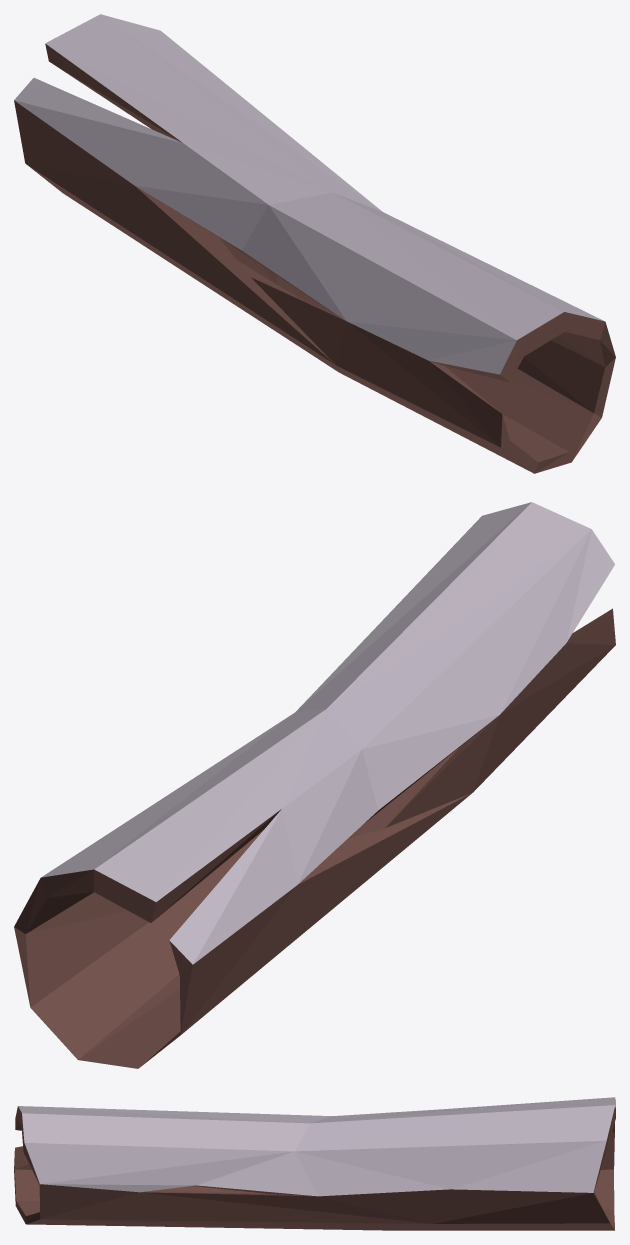
The model's file is WoodLog_Snow.lod1.glb.
The picture shows the model from 3 angles, top to bottom: view 1: azimuth 30°, elevation 25°; view 2: azimuth 150°, elevation 25°; view 3: azimuth 270°, elevation 25°; orthographic projection. The views are drawn at different scales.
Visible parts, largest first — view 1: WoodLog_Snow; view 2: WoodLog_Snow; view 3: WoodLog_Snow.
Boxes of the visible parts, box(x1,y1,x2,y2) form: WoodLog_Snow: box(14, 14, 615, 473); WoodLog_Snow: box(14, 502, 615, 1068); WoodLog_Snow: box(14, 1097, 615, 1230).
Size of the model in its own units: 0.6263 by 0.5705 by 2.49.
